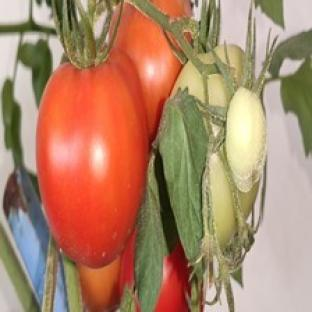Tomato: (37, 49, 149, 267), (115, 3, 182, 142), (226, 88, 266, 192), (209, 154, 236, 246), (155, 243, 190, 311), (77, 257, 121, 311)
